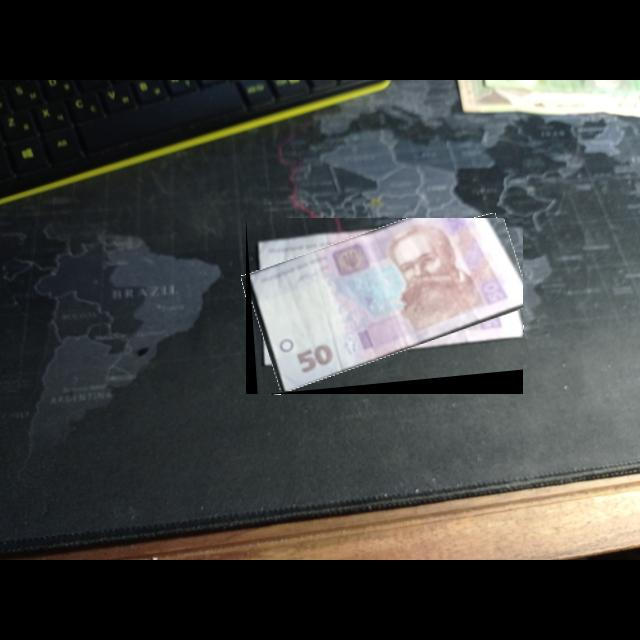50uah: (250, 218, 524, 394)
